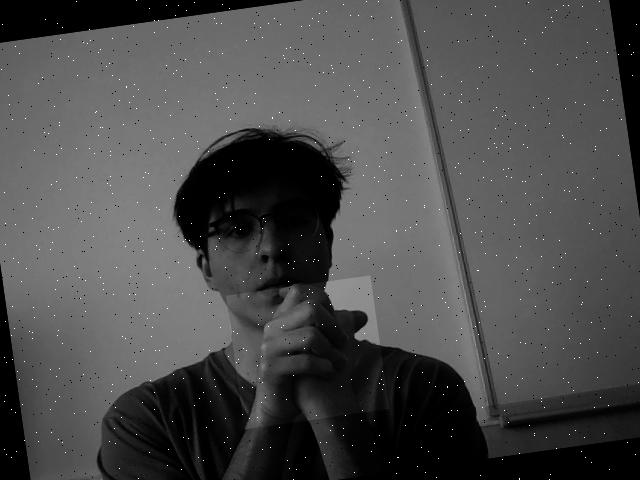friend: (245, 284, 378, 429)
